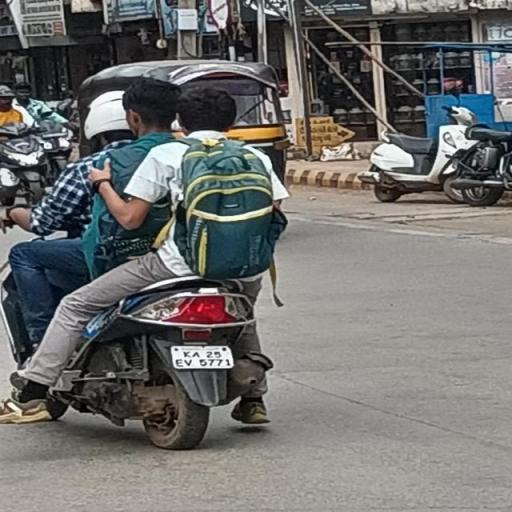tripple riding: (2, 74, 294, 294)
